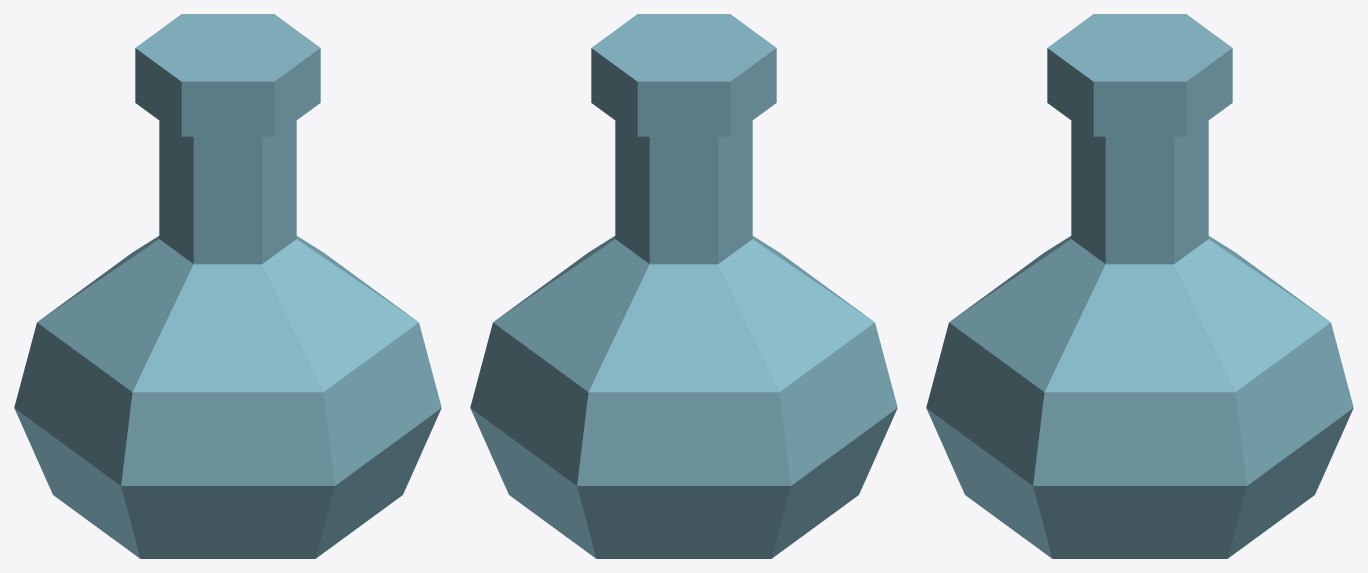
The model's file is manaPotion.obj.
3 renders of one model, left to right at view 1: azimuth 30°, elevation 25°; view 2: azimuth 150°, elevation 25°; view 3: azimuth 270°, elevation 25°, orthographic.
Parts seen in each view (by area): view 1: manaPotion_Cylinder.003_glass; view 2: manaPotion_Cylinder.003_glass; view 3: manaPotion_Cylinder.003_glass.
Part boxes in pixels (x1,y1,x2,y2): manaPotion_Cylinder.003_glass: (14,14,441,558); manaPotion_Cylinder.003_glass: (470,14,897,558); manaPotion_Cylinder.003_glass: (926,14,1353,558).
Size of the model in its own units: 0.2058 by 0.2741 by 0.2376.
